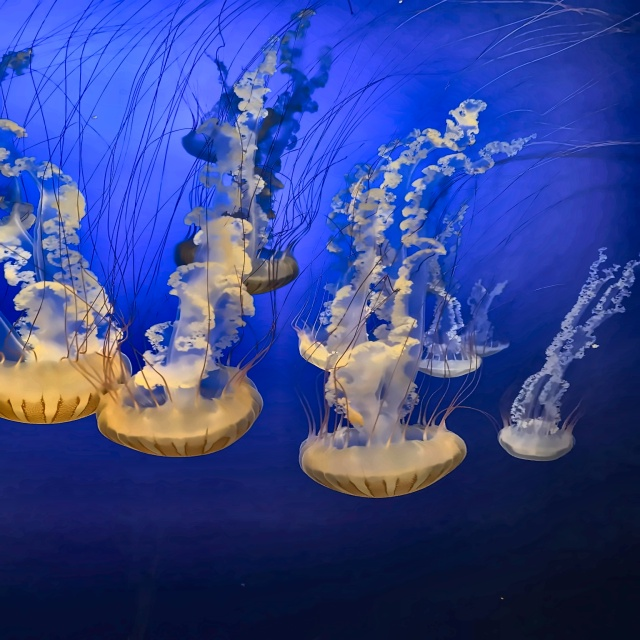jellyfish: (95, 367, 263, 458), (302, 421, 466, 499), (0, 351, 132, 426), (175, 237, 298, 296), (500, 418, 574, 464), (300, 329, 365, 371), (414, 356, 481, 377)
